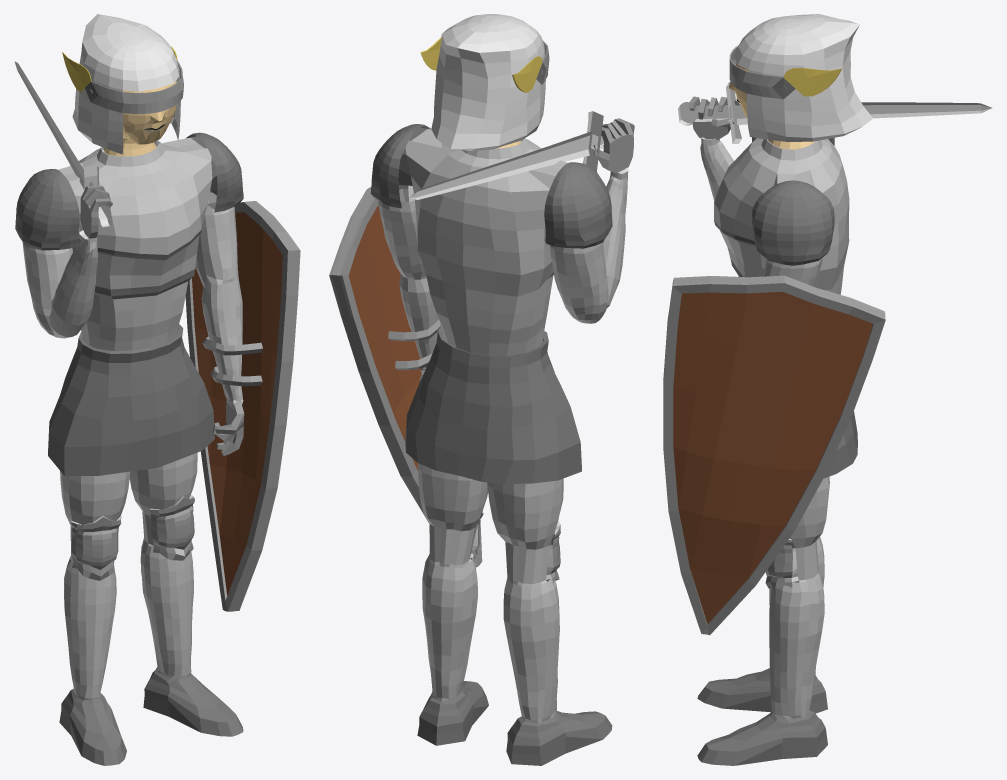
The model's file is cavallerov2.glb.
3 views of the same model, side by side, from view 1: azimuth 30°, elevation 25°; view 2: azimuth 150°, elevation 25°; view 3: azimuth 270°, elevation 25° (orthographic). The views are drawn at different scales.
Parts seen in each view (by area): view 1: torso; view 2: torso; view 3: torso.
Part boxes in pixels (x1,y1,x2,y2): torso: (14,14,300,765); torso: (329,14,634,765); torso: (663,14,991,765).
Bounding box in the file's own units: 0.5659 × 1.6 × 0.6789.
